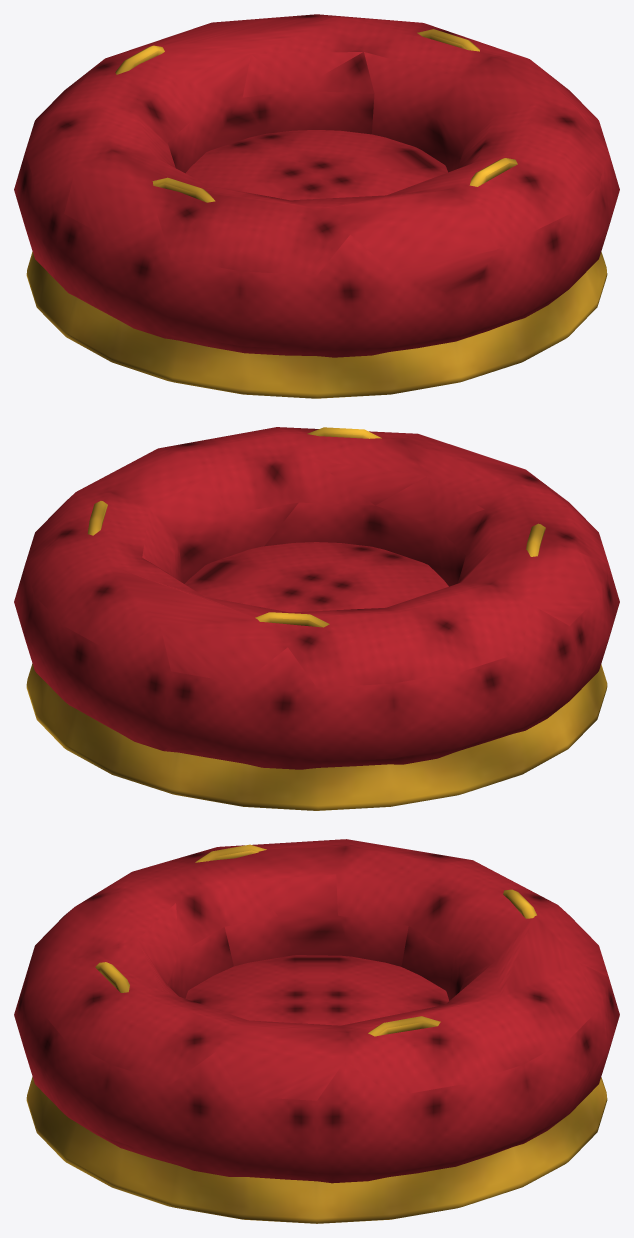
File: h_prop_catbed.glb
The picture shows the model from 3 angles, top to bottom: view 1: azimuth 30°, elevation 25°; view 2: azimuth 150°, elevation 25°; view 3: azimuth 270°, elevation 25°; orthographic projection.
Visible parts, largest first — view 1: CatBolster, CatGoldFringe, CatCenterPad, CatGoldSeam_2, CatGoldSeam_3, CatGoldSeam_0, CatGoldSeam_1; view 2: CatBolster, CatGoldFringe, CatCenterPad, CatGoldSeam_1, CatGoldSeam_3; view 3: CatBolster, CatGoldFringe, CatCenterPad, CatGoldSeam_0, CatGoldSeam_2, CatGoldSeam_3.
Boxes of the visible parts, bbox=[...] form: CatBolster: bbox=[14, 14, 619, 357]; CatGoldFringe: bbox=[26, 251, 607, 398]; CatCenterPad: bbox=[185, 130, 447, 200]; CatGoldSeam_2: bbox=[152, 177, 215, 202]; CatGoldSeam_3: bbox=[469, 158, 517, 186]; CatGoldSeam_0: bbox=[417, 29, 479, 51]; CatGoldSeam_1: bbox=[115, 45, 164, 74]; CatBolster: bbox=[14, 427, 619, 769]; CatGoldFringe: bbox=[26, 663, 607, 810]; CatCenterPad: bbox=[184, 542, 448, 612]; CatGoldSeam_1: bbox=[255, 612, 329, 627]; CatGoldSeam_3: bbox=[307, 427, 381, 438]; CatBolster: bbox=[14, 839, 619, 1183]; CatGoldFringe: bbox=[26, 1076, 607, 1223]; CatCenterPad: bbox=[185, 955, 448, 1025]; CatGoldSeam_0: bbox=[368, 1016, 440, 1036]; CatGoldSeam_2: bbox=[195, 844, 266, 862]; CatGoldSeam_3: bbox=[95, 962, 129, 992].
Size of the model in its own units: 0.99 by 0.3062 by 0.99.
2 materials, 2 textured.
